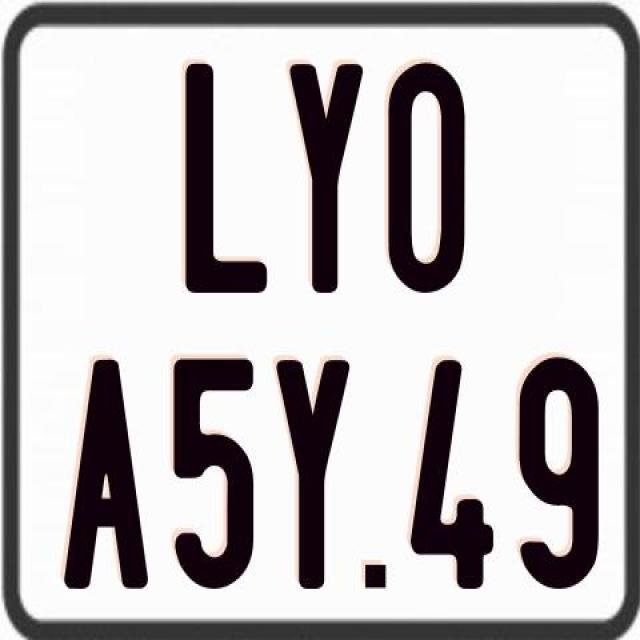0: (387, 59, 472, 294)
4: (407, 357, 492, 587)
5: (172, 356, 259, 590)
9: (517, 356, 599, 590)
A: (64, 357, 148, 586)
L: (185, 64, 271, 301)
Y: (274, 355, 356, 587), (288, 63, 364, 294)
